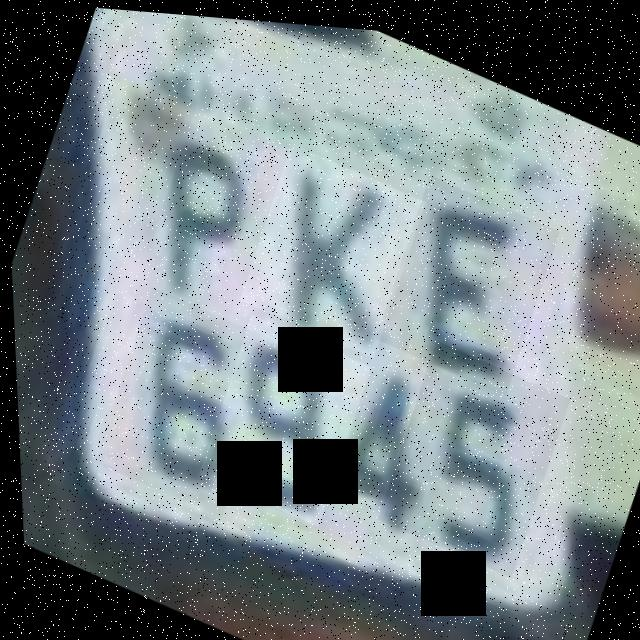4: (295, 317, 481, 559)
5: (367, 329, 574, 574)
6: (84, 281, 283, 519)
9: (189, 307, 373, 525)
E: (367, 164, 563, 392)
K: (232, 135, 429, 357)
P: (96, 106, 285, 336)
